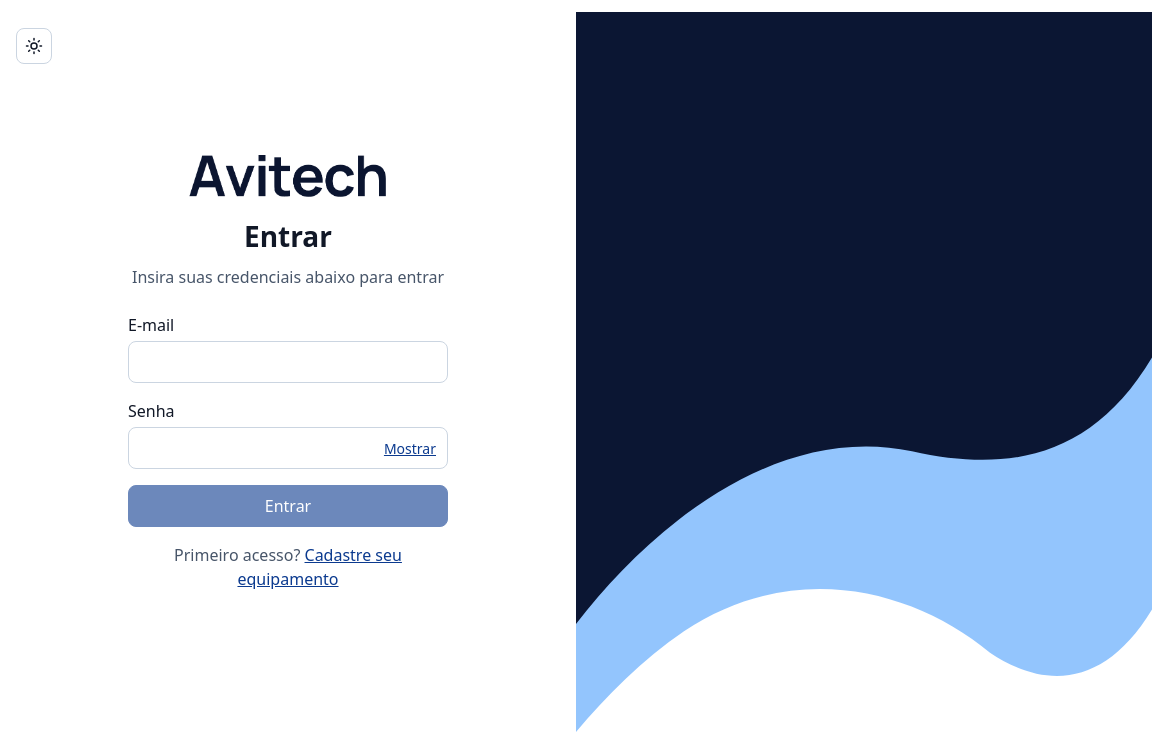
Test case: LoginPage › falha de rede mostra 'Sem conexão com o servidor'
Type "dono@example.com" into the field labelled "E-mail". click: (288, 362)
box: [128,341,448,383]
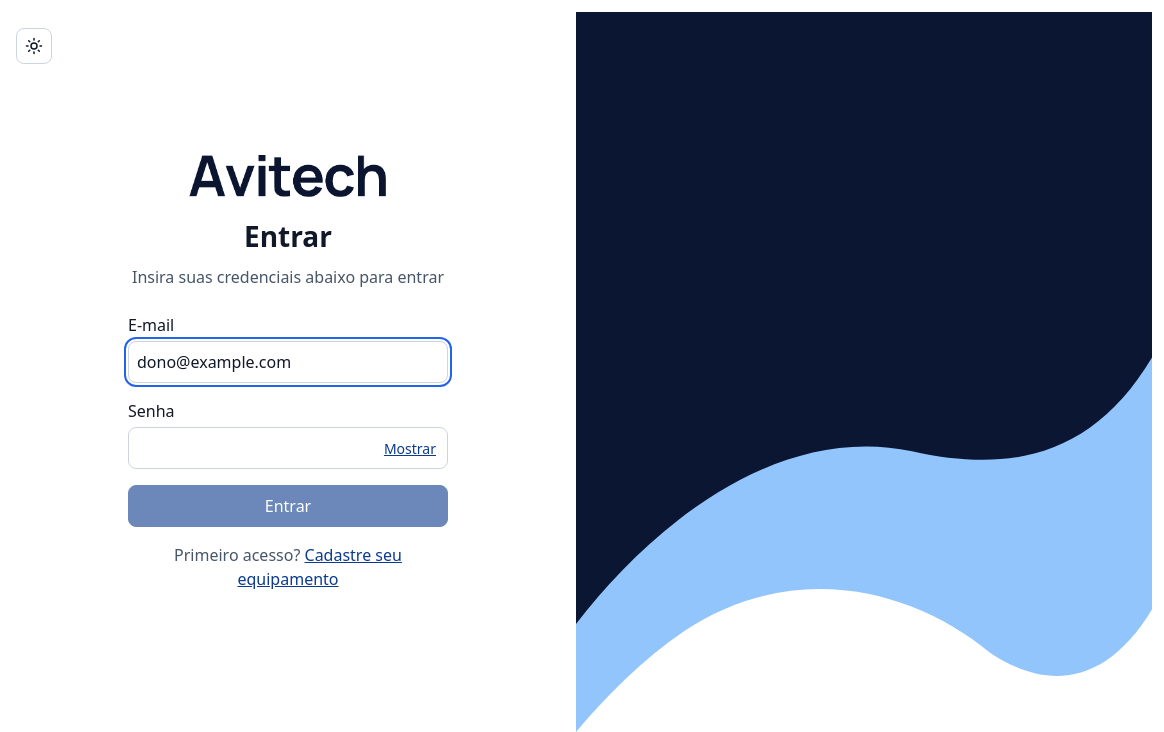
Type "segredo-123" into the password field labelled "Senha". click: (288, 448)
box: [128,427,448,469]
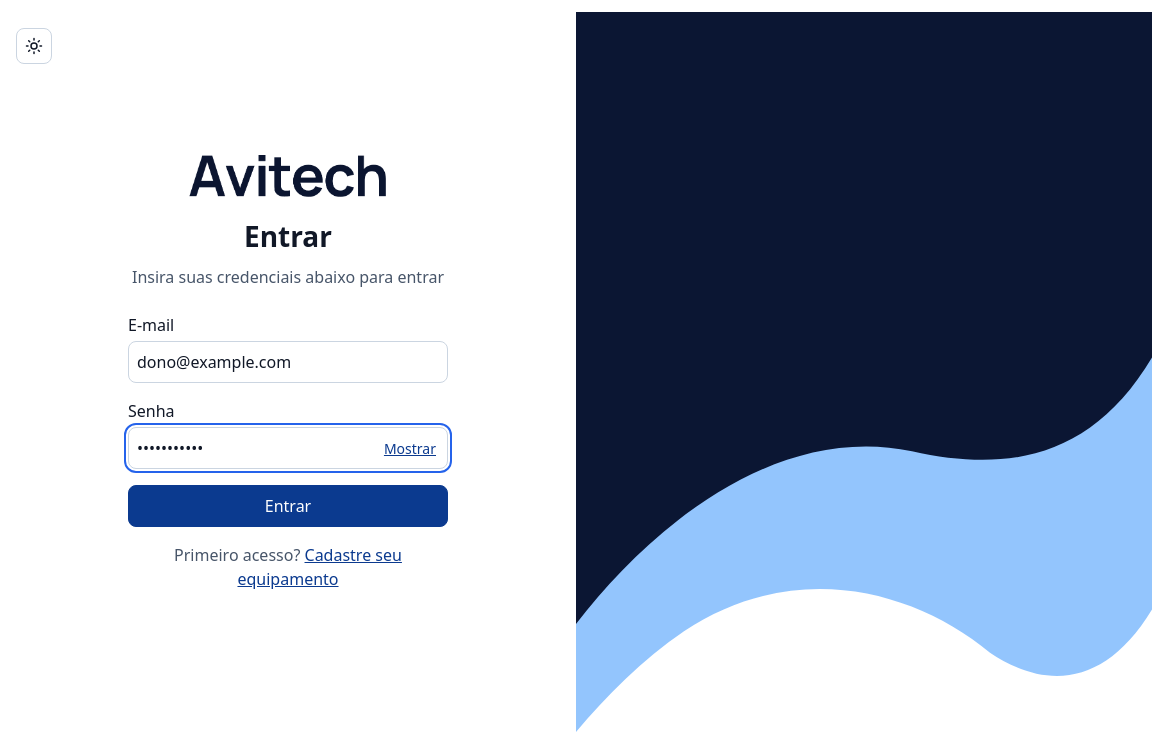
Click the button "Entrar". click: (288, 506)
box: [128,485,448,527]
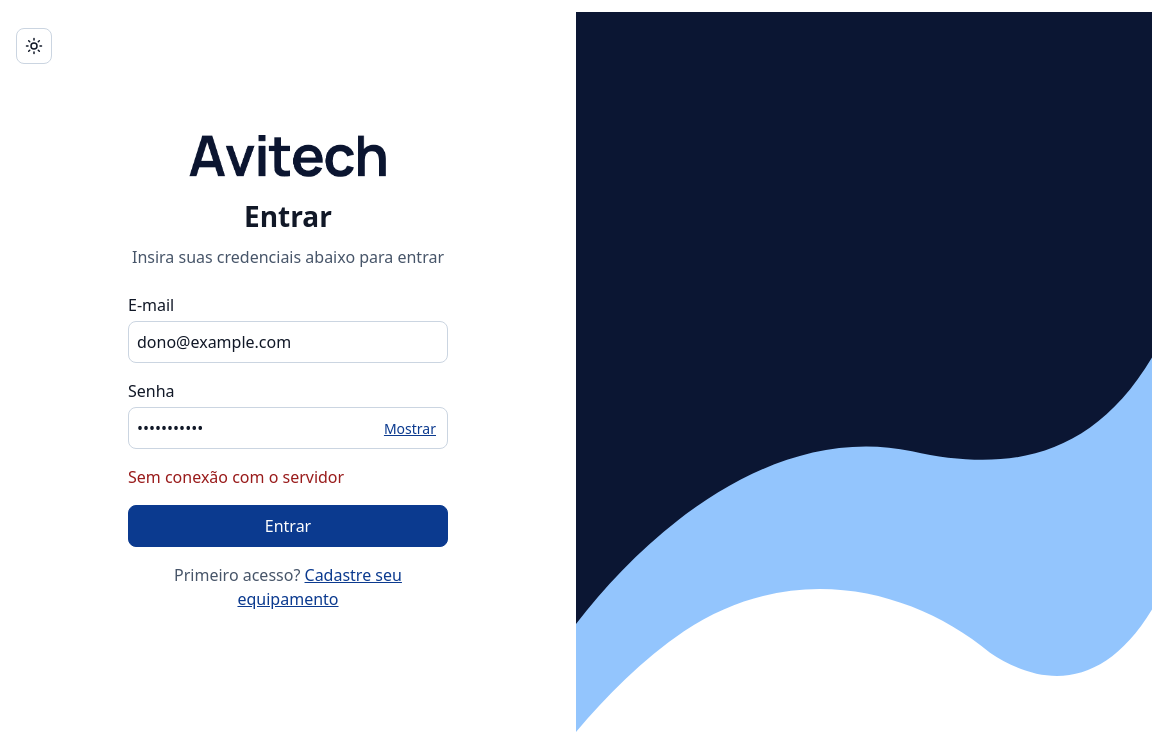
Check: the message reads "Sem conexão com o servidor", box [128,466,344,488]
